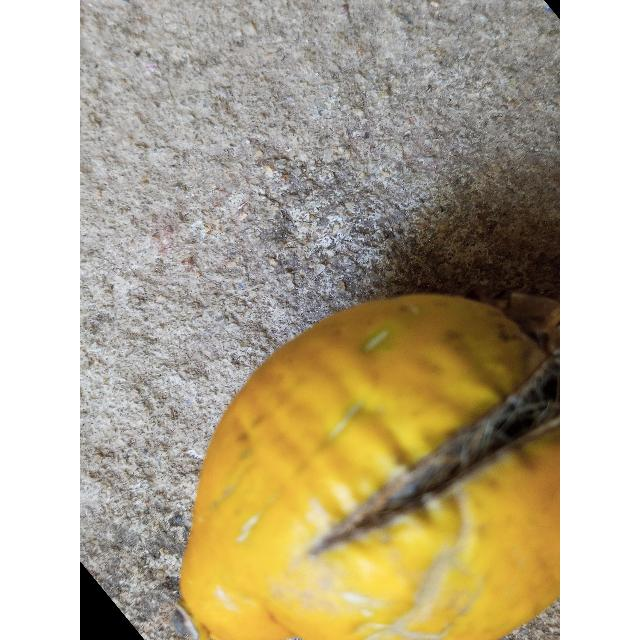damaged: (180, 294, 560, 640)
